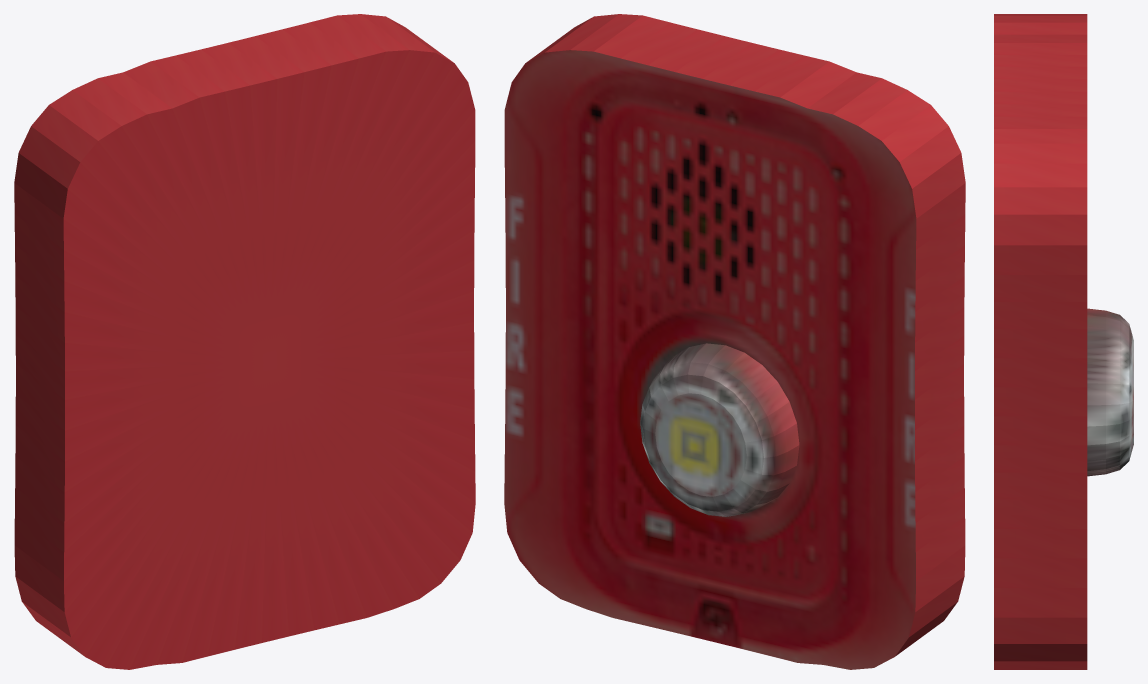
Rendered from systemsensor_lseries_led_hornstrobe.obj.
3 views of the same model, side by side, from view 1: azimuth 30°, elevation 25°; view 2: azimuth 150°, elevation 25°; view 3: azimuth 270°, elevation 25° (orthographic). The views are drawn at different scales.
Parts seen in each view (by area): view 1: lseries_led_hornstrobe; view 2: lseries_led_hornstrobe; view 3: lseries_led_hornstrobe.
Boxes of the visible parts, x1,y1,x2,y2 form: lseries_led_hornstrobe: (14,14,475,669); lseries_led_hornstrobe: (504,14,965,669); lseries_led_hornstrobe: (994,14,1133,669).
Size of the model in its own units: 0.6033 by 0.7856 by 0.1875.
